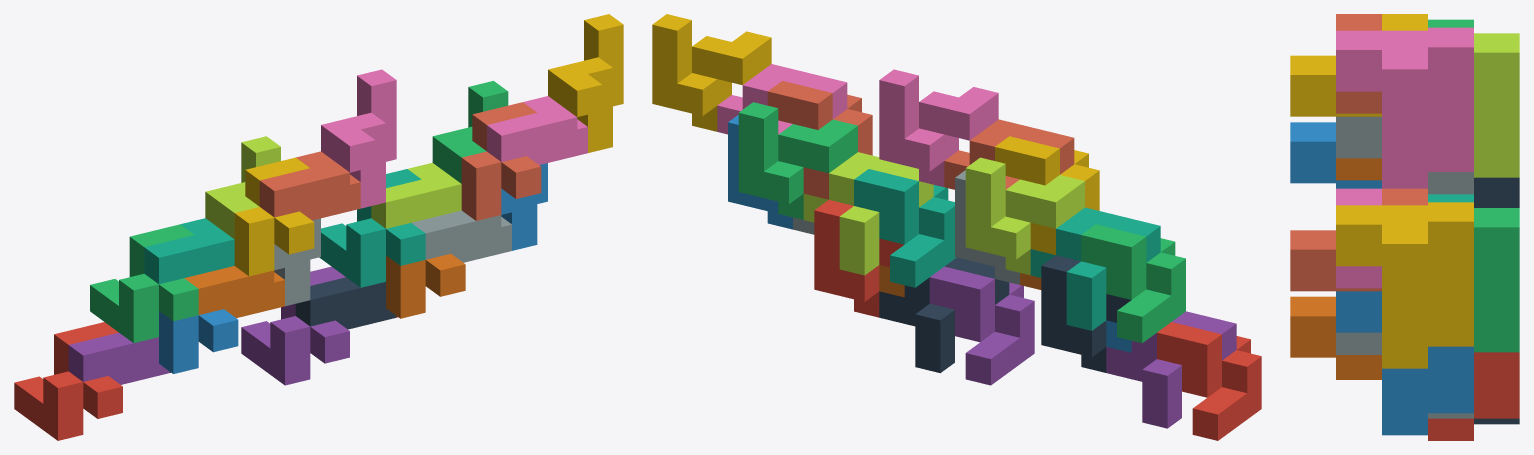
Rendered from tiling.obj.
3 renders of one model, left to right at view 1: azimuth 30°, elevation 25°; view 2: azimuth 150°, elevation 25°; view 3: azimuth 270°, elevation 25°, orthographic. The views are drawn at different scales.
Parts seen in each view (by area): view 1: copy_1_domain_3, copy_1_domain_1, copy_2_domain_4, copy_2_domain_8, copy_1_domain_5, copy_1_domain_7, copy_1_domain_4, copy_1_domain_8, copy_3_domain_4, copy_3_domain_8, copy_3_domain_3, copy_3_domain_1 (+10 smaller); view 2: copy_2_domain_4, copy_2_domain_8, copy_2_domain_3, copy_2_domain_7, copy_1_domain_3, copy_1_domain_1, copy_1_domain_5, copy_1_domain_7, copy_3_domain_3, copy_3_domain_7, copy_3_domain_1, copy_3_domain_5 (+8 smaller); view 3: copy_2_domain_8, copy_2_domain_4, copy_2_domain_6, copy_2_domain_3, copy_2_domain_7, copy_2_domain_5, copy_1_domain_6, copy_1_domain_8, copy_1_domain_4, copy_1_domain_2, copy_2_domain_2, copy_3_domain_8 (+7 smaller).
Part boxes in pixels (x1,y1,x2,y2): copy_1_domain_3: (90, 224, 198, 343); copy_1_domain_1: (14, 322, 122, 440); copy_2_domain_4: (321, 69, 396, 208); copy_2_domain_8: (548, 14, 623, 152); copy_1_domain_5: (241, 266, 349, 385); copy_1_domain_7: (319, 169, 425, 287); copy_1_domain_4: (234, 157, 314, 276); copy_1_domain_8: (461, 102, 541, 220); copy_3_domain_4: (259, 151, 360, 220); copy_3_domain_8: (487, 96, 587, 164); copy_3_domain_3: (144, 218, 234, 284); copy_3_domain_1: (68, 332, 169, 384); copy_2_domain_4: (879, 69, 998, 186); copy_2_domain_8: (652, 14, 771, 131); copy_2_domain_3: (965, 157, 1084, 275); copy_2_domain_7: (738, 102, 857, 219); copy_1_domain_3: (1081, 224, 1185, 343); copy_1_domain_1: (1157, 322, 1261, 440); copy_1_domain_5: (929, 266, 1034, 385); copy_1_domain_7: (854, 169, 956, 287); copy_3_domain_3: (1030, 207, 1160, 330); copy_3_domain_7: (803, 152, 933, 275); copy_3_domain_1: (1106, 311, 1236, 428); copy_3_domain_5: (879, 257, 1009, 373); copy_2_domain_8: (1336, 202, 1473, 368); copy_2_domain_4: (1336, 27, 1473, 188); copy_2_domain_6: (1336, 291, 1473, 435); copy_2_domain_3: (1474, 33, 1519, 177); copy_2_domain_7: (1474, 208, 1519, 352); copy_2_domain_5: (1428, 352, 1519, 440); copy_1_domain_6: (1290, 296, 1381, 379); copy_1_domain_8: (1290, 188, 1427, 291); copy_1_domain_4: (1290, 14, 1427, 116); copy_1_domain_2: (1290, 122, 1381, 188); copy_2_domain_2: (1336, 116, 1473, 194); copy_3_domain_8: (1336, 188, 1381, 288).
Size of the model in its own units: 23 by 10 by 5.
